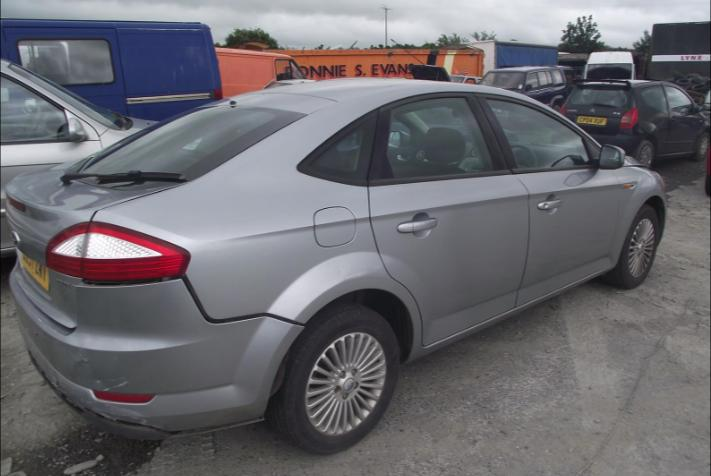Broken part: (77, 273, 305, 329), (77, 407, 265, 440)
Dent: (65, 348, 117, 393), (90, 400, 122, 420), (70, 325, 94, 348), (51, 369, 67, 394), (43, 358, 48, 371)
Scratch: (104, 403, 162, 429), (100, 380, 129, 392), (92, 377, 127, 383), (78, 353, 89, 368), (85, 401, 92, 404), (80, 397, 83, 403), (114, 357, 118, 361)
